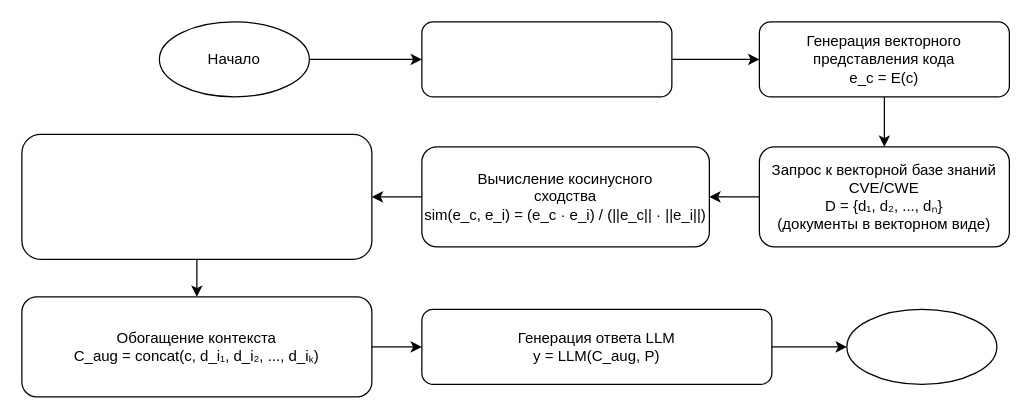
This 1031x419 diagram has some shape labels left out. Here are the shapes that lost their labels. From the top down, the box of each, then its label:
(421, 21, 672, 97): Анализируемый фрагмент кода c
(21, 133, 372, 259): Выбор k наиболее релевантных документов R_k = argmax sim(e_c, e_i)
(846, 308, 997, 384): Конец
